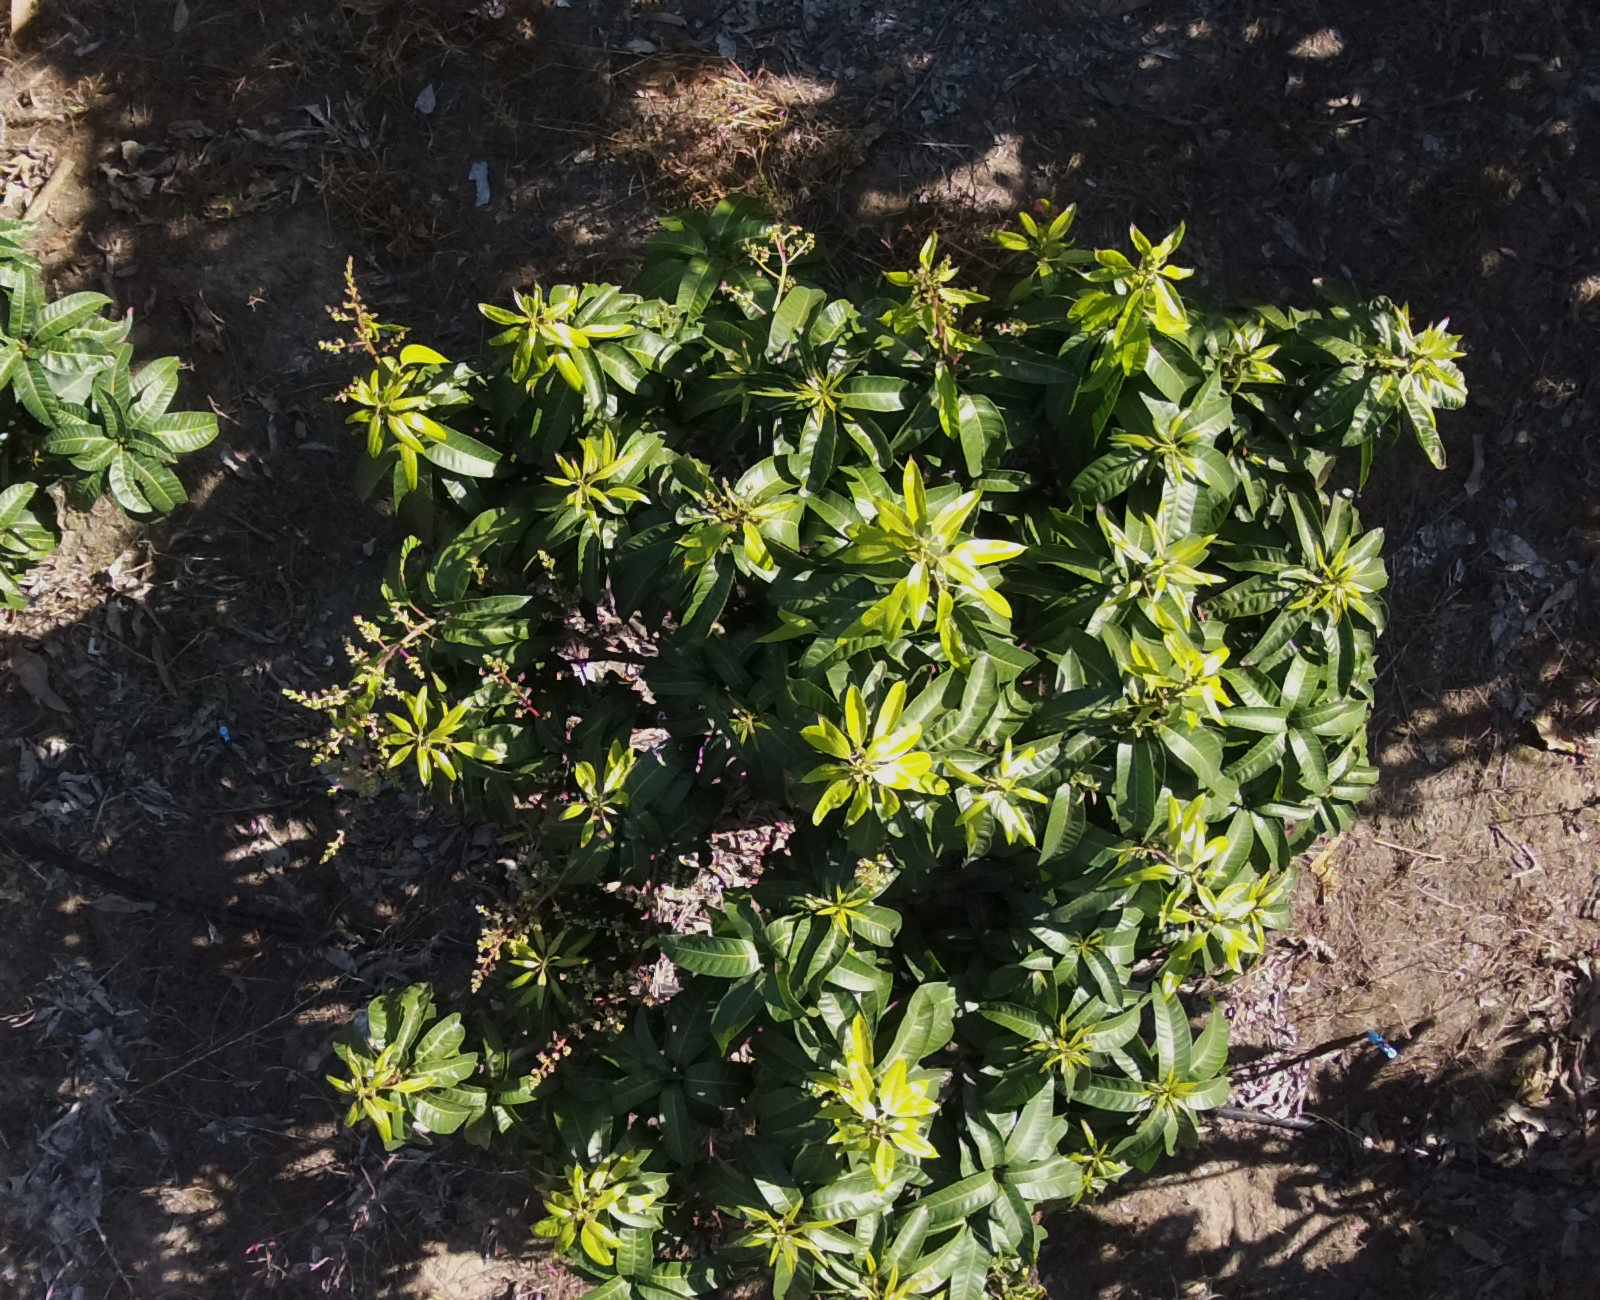flowers: (283, 614, 423, 797), (321, 263, 429, 456), (881, 233, 987, 375), (719, 224, 815, 320), (471, 906, 528, 991), (482, 655, 543, 715), (525, 1033, 570, 1093), (984, 1258, 1045, 1297)
